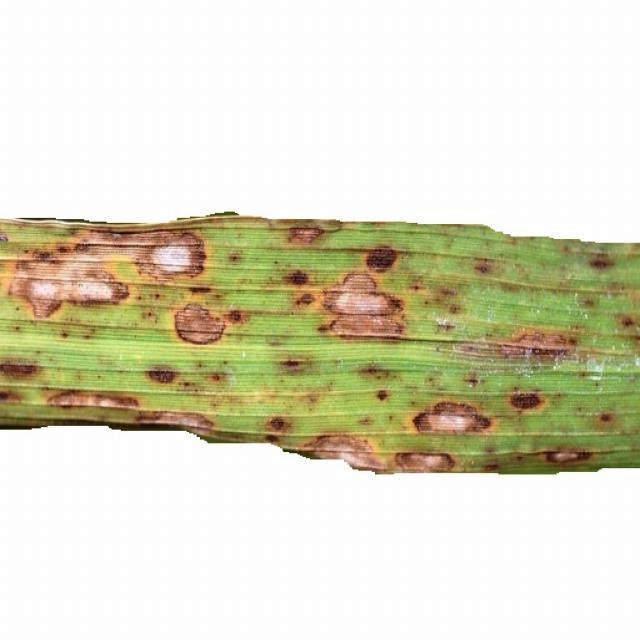Brownspot: (9, 231, 204, 317), (9, 256, 128, 318), (78, 231, 205, 280), (323, 273, 402, 337), (304, 435, 382, 470), (413, 401, 490, 432), (175, 304, 224, 343), (137, 411, 213, 436), (501, 332, 575, 357), (330, 315, 402, 337), (48, 391, 138, 408), (395, 452, 454, 471), (366, 247, 396, 271), (544, 450, 590, 463), (510, 392, 541, 410), (289, 227, 323, 243), (0, 362, 37, 376), (147, 367, 175, 382), (359, 364, 388, 378), (589, 254, 612, 269), (285, 270, 308, 285), (267, 417, 289, 432), (280, 359, 302, 372), (474, 258, 492, 273), (225, 310, 245, 323), (464, 372, 479, 387), (0, 391, 20, 402), (296, 293, 314, 305), (619, 315, 634, 327), (208, 372, 225, 382), (598, 412, 612, 423), (190, 286, 210, 293), (228, 252, 240, 263), (376, 390, 387, 400)
